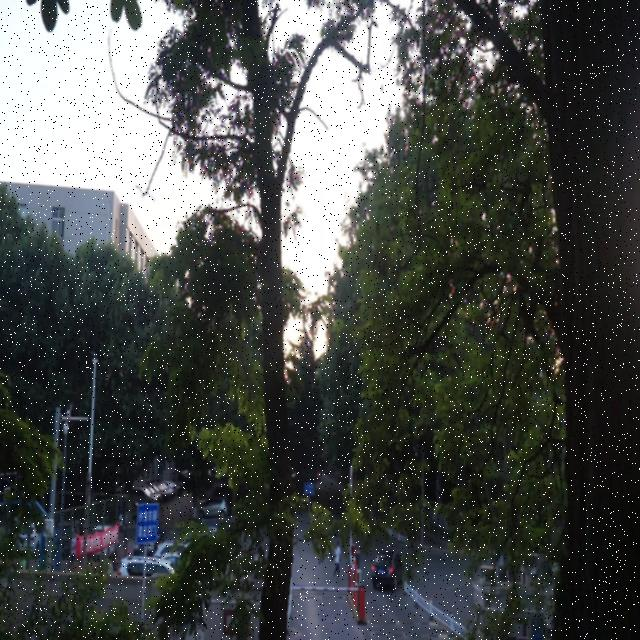UAV: (284, 201, 291, 207)
